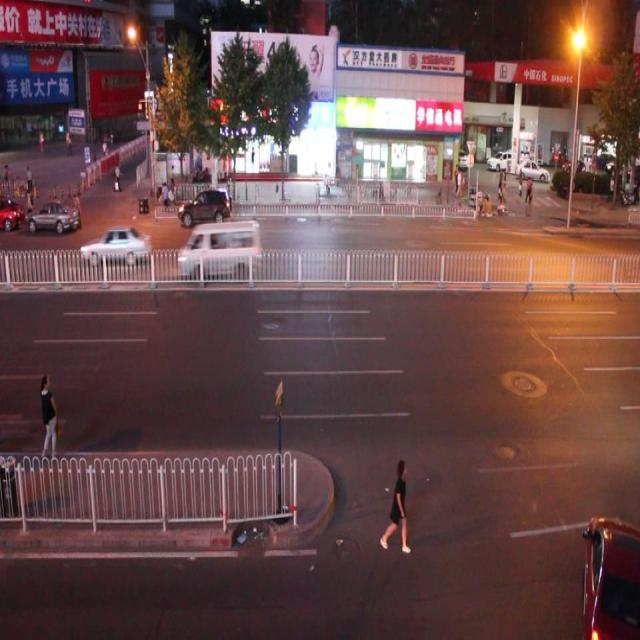car: (578, 509, 640, 640), (80, 225, 152, 266), (177, 185, 232, 227), (26, 196, 81, 237)
truck: (176, 220, 260, 279)
